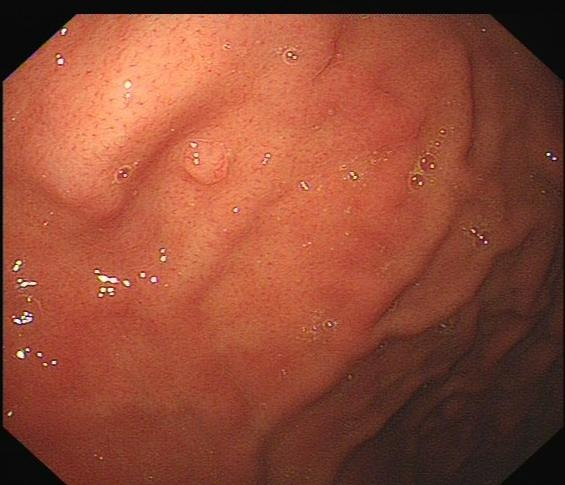Polyp: (181, 134, 232, 186)
